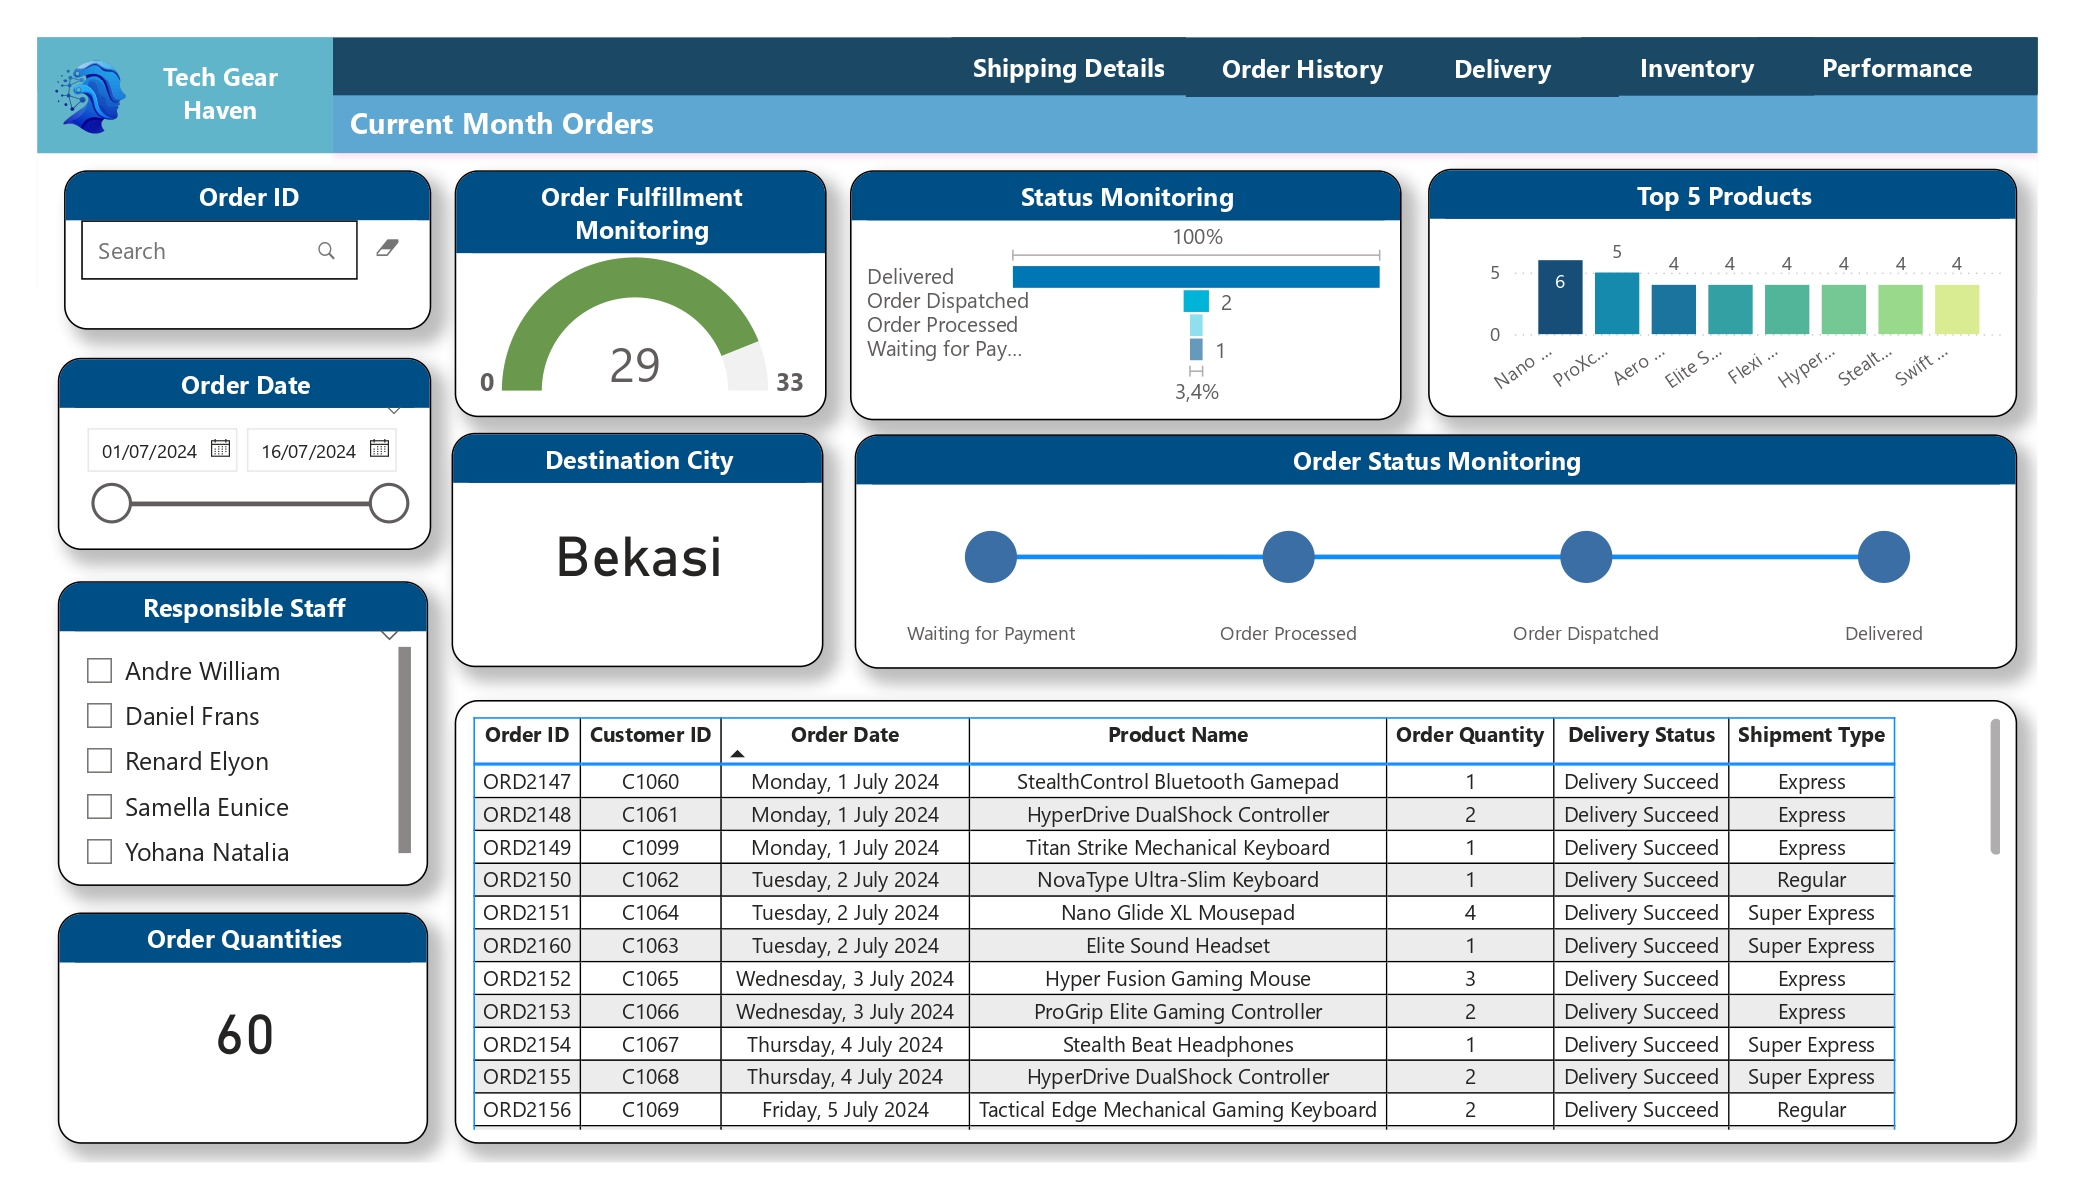

The dashboard page shown, as its layout file describes it:
{"tool":"powerbi","page":{"name":"Current Month Orders","canvas":[1280,720],"ordinal":0},"visuals":[{"type":"shape","title":"Horizontal Shape","box":[188.9,36.2,1090.8,37.5],"z":0},{"type":"shape","title":"Horizontal Shape","box":[189.1,0.2,1090.4,36.9],"z":1000},{"type":"shape","box":[0,0,188.9,74.4],"z":2000},{"type":"textbox","title":"Report Title","box":[195.2,37.2,438.7,36.5],"z":3000},{"type":"image","box":[0,5.6,66.7,64.4],"z":4000},{"type":"textbox","box":[56.9,9.1,120.3,54.3],"z":5000},{"type":"textFilter25A4896A83E0487089E2B90C9AE57C8A","fields":{"field":["Current Month Orders.Order ID"]},"box":[16.7,85,235,101.7],"z":6000},{"type":"funnel","title":"Status Monitoring","fields":{"Category":["Current Month Orders.Order Status"],"Y":["Current Month Orders.Order ID"]},"box":[520.3,85.2,353.1,159.5],"z":7000},{"type":"clusteredColumnChart","title":"Top 5 Products","fields":{"Y":["Current Month Orders.Order Quantity"],"Category":["Current Month Orders.Product Name"]},"box":[890.4,83.6,376.3,159.5],"z":8000},{"type":"gauge","title":"Order Fulfillment Monitoring","fields":{"MaxValue":["Current Month Orders.Order ID"],"Y":["Current Month Orders.Count of Order ID for Delivery Succeed"]},"box":[266.6,85.4,238.1,157.9],"z":9000},{"type":"slicer","title":"Order Date","fields":{"Values":["Current Month Orders.Order Date"]},"box":[13.3,205,238.3,123.3],"z":10000},{"type":"slicer","title":"Responsible Staff","fields":{"Values":["Current Month Orders.Staff Name"]},"box":[13.3,348.3,236.7,195],"z":11000},{"type":"card","title":"Order Quantities","fields":{"Values":["Current Month Orders.Order Quantity"]},"box":[13.3,560,236.7,148.3],"z":12000},{"type":"card","title":"Destination City","fields":{"Values":["Current Month Orders.Destination City"]},"box":[265,253.3,238.3,150],"z":13000},{"type":"tableEx","fields":{"Values":["Current Month Orders.Order ID","Current Month Orders.Customer ID","Current Month Orders.Order Date","Current Month Orders.Product Name","Current Month Orders.Order Quantity","Current Month Orders.Delivery Status","Current Month Orders.Shipment Type"]},"box":[266.6,424.4,1000.2,283.4],"z":14000},{"type":"lineChart","title":"Order Status Monitoring","fields":{"Category":["Order Status.Order Status"],"Y":["Current Month Orders.Dummy Line Highlight"]},"box":[522.8,253.6,744,150.1],"z":15000},{"type":"pageNavigator","box":[863.1,1.3,148.8,36.2],"z":16000},{"type":"pageNavigator","box":[584.9,0,150.1,36.2],"z":17000},{"type":"pageNavigator","box":[735,1.3,148.8,36.2],"z":18000},{"type":"pageNavigator","box":[988.2,0,148.3,36.7],"z":19000},{"type":"pageNavigator","box":[1101.2,0,178.6,36.2],"z":20000}]}

Visuals, with their boxes on the page's 1280x720 design canvas (x1, y1, x2, y2). These are canvas units, not pixel positions in the 2075x1200 screenshot, which may show the page scaled, cropped or inside an application window:
"Horizontal Shape" shape: left=189, top=36, right=1280, bottom=74
"Horizontal Shape" shape: left=189, top=0, right=1280, bottom=37
shape: left=0, top=0, right=189, bottom=74
"Report Title" textbox: left=195, top=37, right=634, bottom=74
image: left=0, top=6, right=67, bottom=70
textbox: left=57, top=9, right=177, bottom=63
textFilter25A4896A83E0487089E2B90C9AE57C8A - Current Month Orders.Order ID: left=17, top=85, right=252, bottom=187
"Status Monitoring" funnel: left=520, top=85, right=873, bottom=245
"Top 5 Products" clusteredColumnChart: left=890, top=84, right=1267, bottom=243
"Order Fulfillment Monitoring" gauge: left=267, top=85, right=505, bottom=243
"Order Date" slicer: left=13, top=205, right=252, bottom=328
"Responsible Staff" slicer: left=13, top=348, right=250, bottom=543
"Order Quantities" card: left=13, top=560, right=250, bottom=708
"Destination City" card: left=265, top=253, right=503, bottom=403
tableEx - Current Month Orders.Order ID x Current Month Orders.Customer ID: left=267, top=424, right=1267, bottom=708
"Order Status Monitoring" lineChart: left=523, top=254, right=1267, bottom=404
pageNavigator: left=863, top=1, right=1012, bottom=38
pageNavigator: left=585, top=0, right=735, bottom=36
pageNavigator: left=735, top=1, right=884, bottom=38
pageNavigator: left=988, top=0, right=1136, bottom=37
pageNavigator: left=1101, top=0, right=1280, bottom=36
